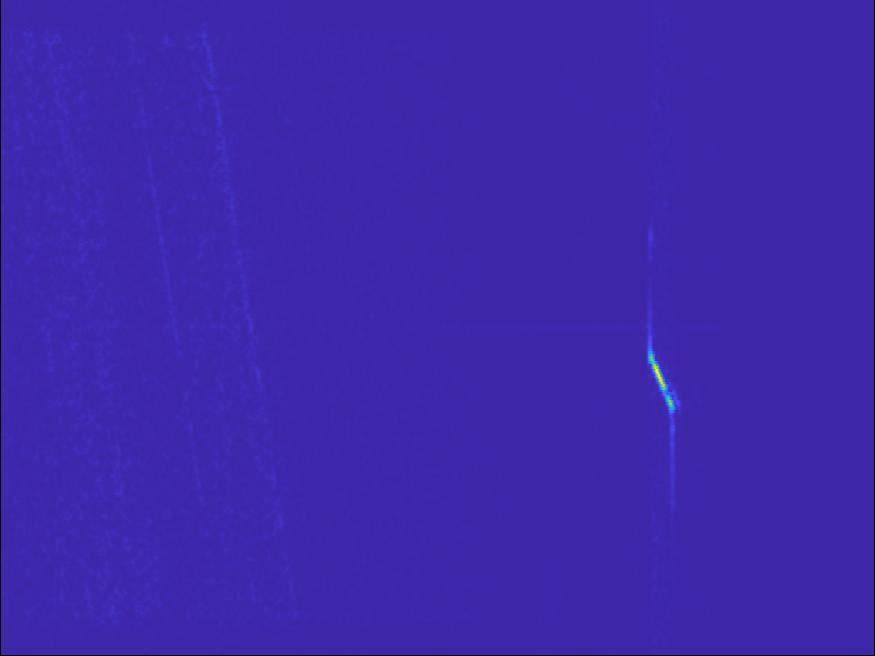Interference: (139, 434, 370, 635), (618, 303, 712, 346)
